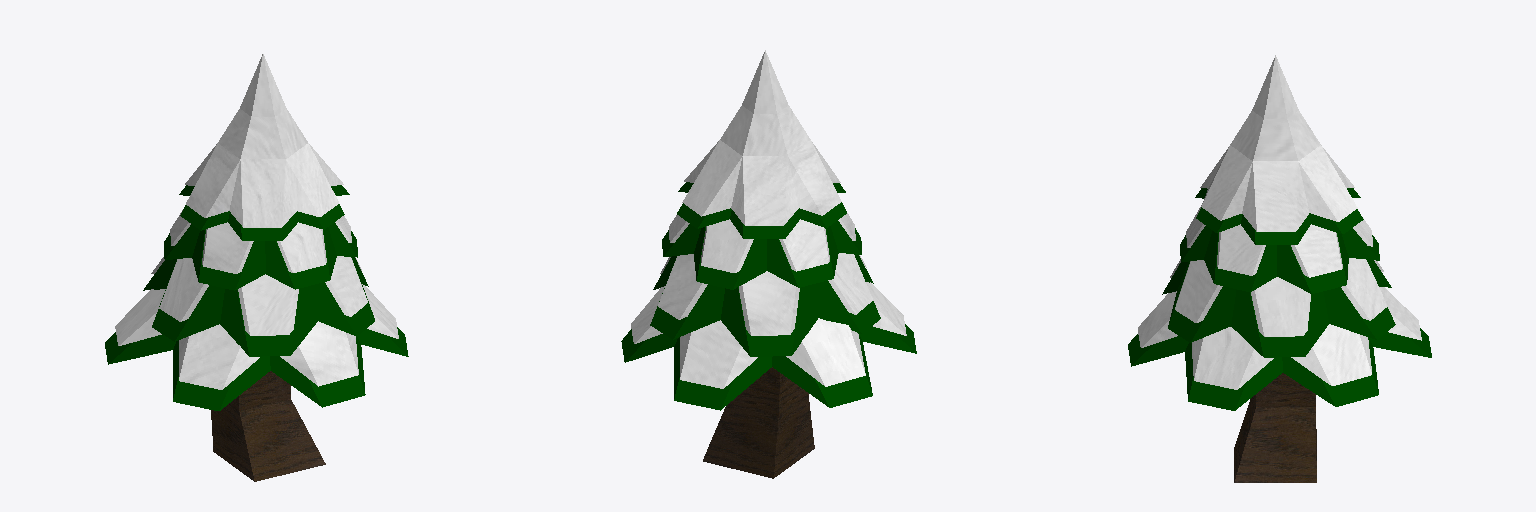
3 views of the same model, side by side, from view 1: azimuth 30°, elevation 25°; view 2: azimuth 150°, elevation 25°; view 3: azimuth 270°, elevation 25° (orthographic).
Parts seen in each view (by area): view 1: Cylinder.002, Cylinder, Cylinder.001; view 2: Cylinder.002, Cylinder, Cylinder.001; view 3: Cylinder.002, Cylinder, Cylinder.001.
Boxes of the visible parts, x1,y1,x2,y2 form: Cylinder.002: [115, 54, 398, 389]; Cylinder: [105, 185, 408, 410]; Cylinder.001: [211, 371, 325, 481]; Cylinder.002: [631, 50, 906, 388]; Cylinder: [621, 182, 916, 410]; Cylinder.001: [703, 367, 814, 478]; Cylinder.002: [1138, 55, 1421, 389]; Cylinder: [1128, 188, 1431, 410]; Cylinder.001: [1234, 373, 1316, 482].
Bounding box in the file's own units: 4.98 × 7.65 × 5.19.
3 materials, 3 textured.